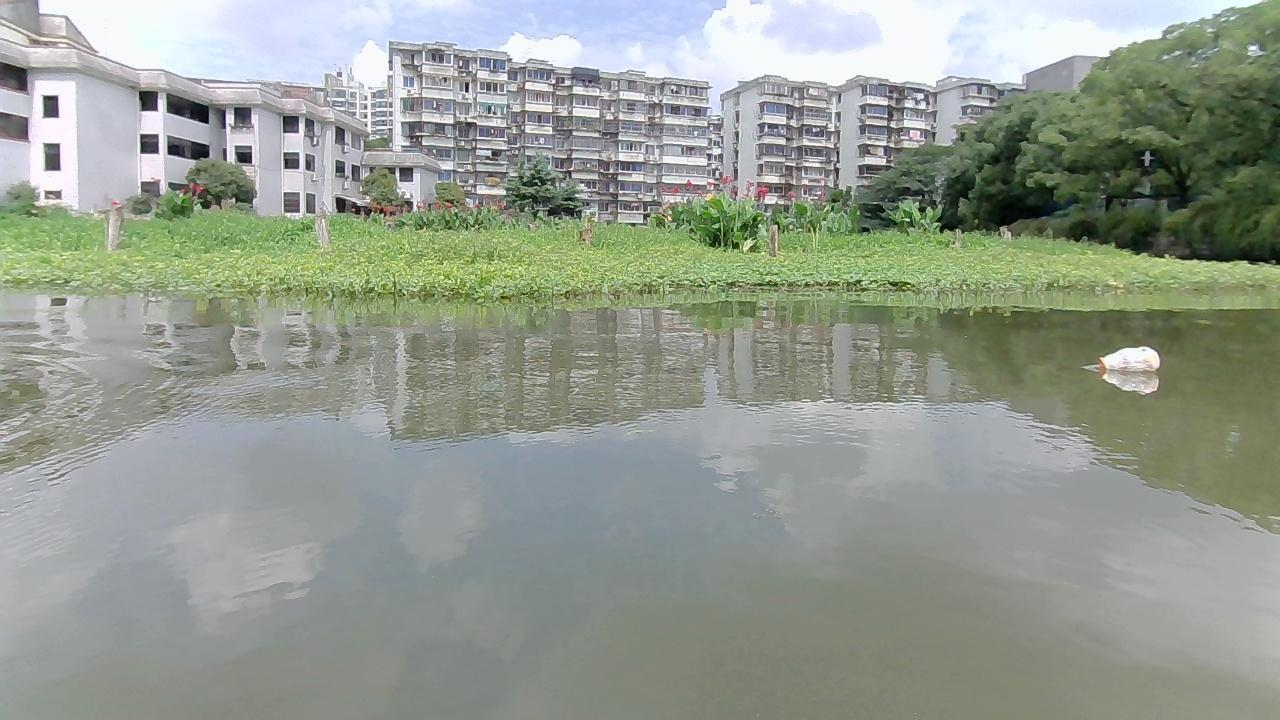bottle: (1088, 344, 1159, 369)
